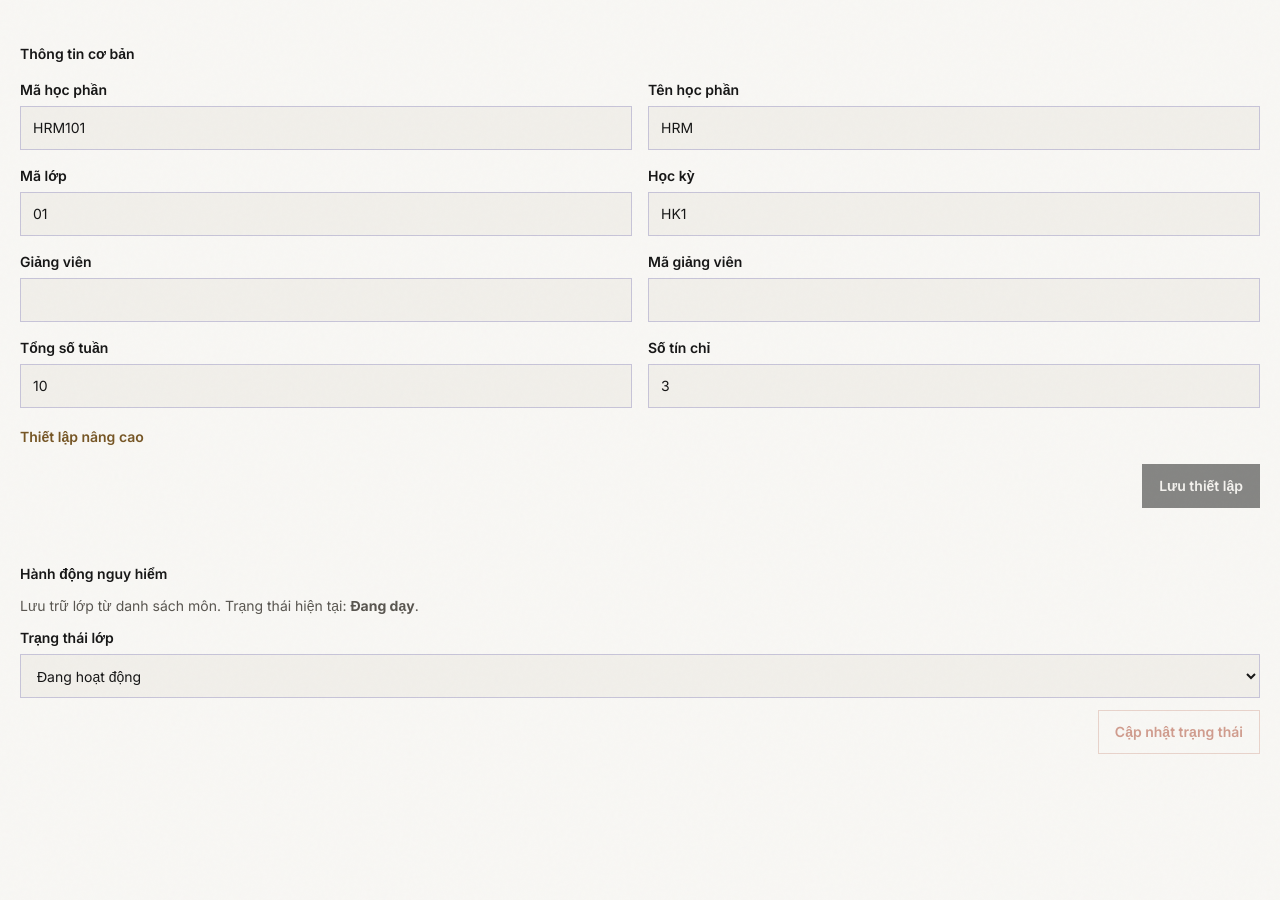
Test: SettingsForm › keeps class status separate from unsaved setup fields
This screenshot has width=1280, height=900.
Step 1. Select "Đã lưu trữ" in the dropdown labelled "Trạng thái lớp" → (640, 676), box [20,654,1260,698]
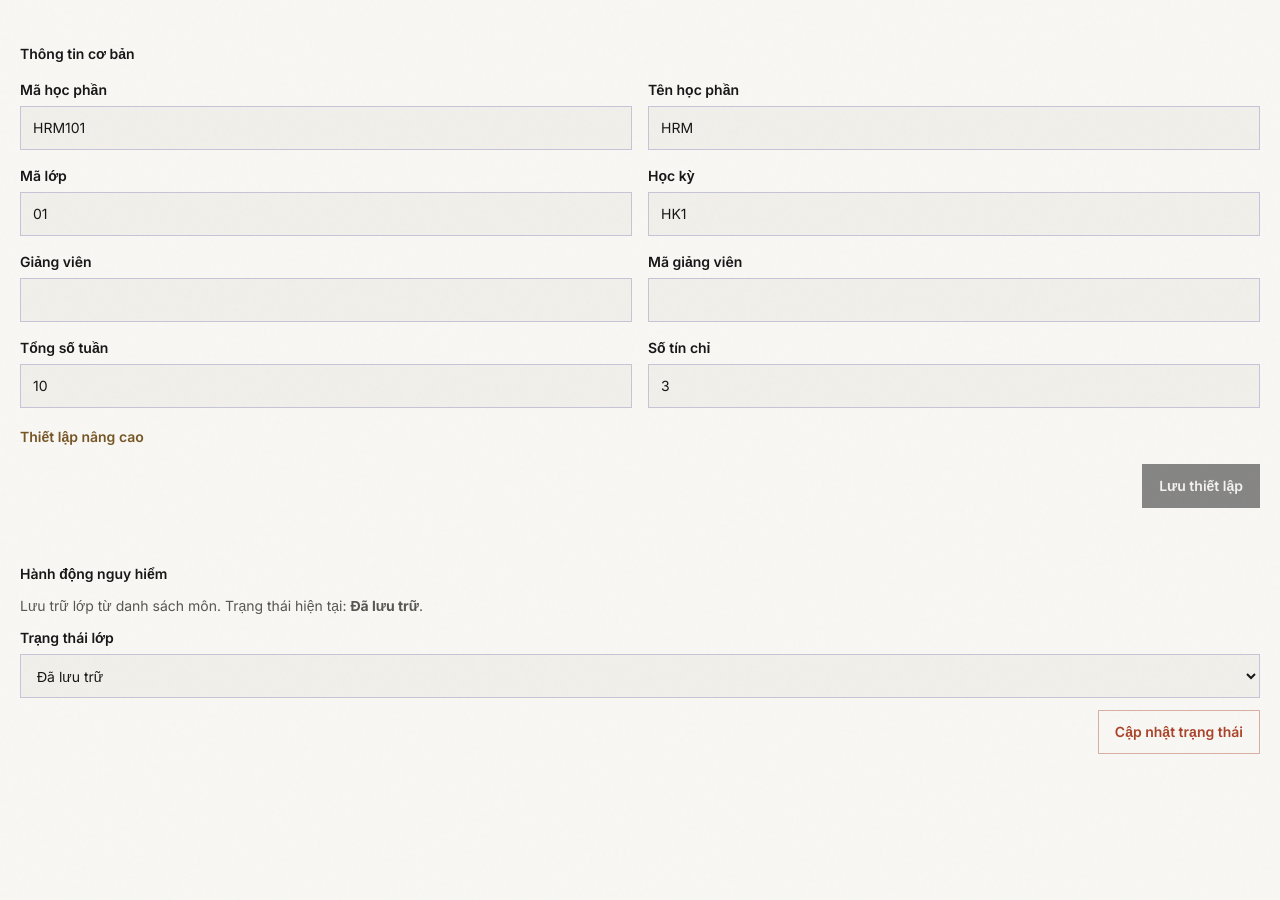
expect the button "Lưu thiết lập" is disabled: met, box [1142,464,1260,508]
expect the button "Cập nhật trạng thái" is enabled: met, box [1098,710,1260,754]
